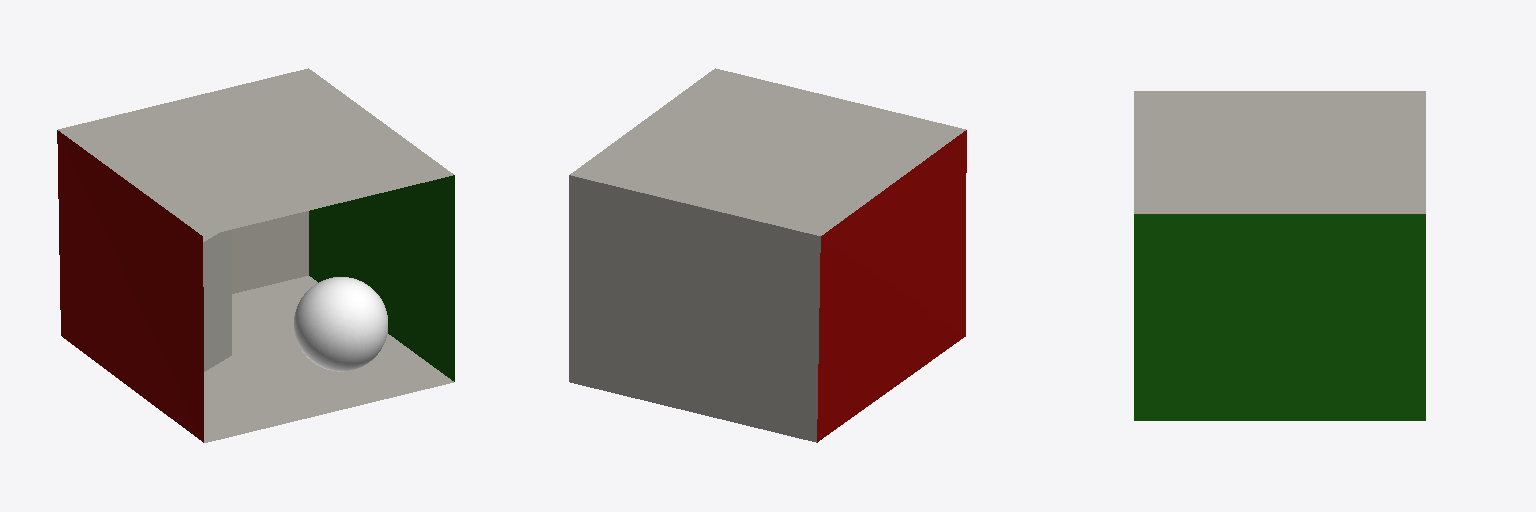
File: cbox_mirror.obj
3 renders of one model, left to right at view 1: azimuth 30°, elevation 25°; view 2: azimuth 150°, elevation 25°; view 3: azimuth 270°, elevation 25°, orthographic.
Parts seen in each view (by area): view 1: ceiling, leftWall, rightWall, floor, rightSphere, backWall, leftBox; view 2: backWall, ceiling, leftWall; view 3: rightWall, ceiling.
Boxes of the visible parts, <box> form: ceiling: <box>58,68,453,235</box>; leftWall: <box>57,130,203,442</box>; rightWall: <box>309,175,454,381</box>; floor: <box>204,276,453,442</box>; rightSphere: <box>294,277,387,371</box>; backWall: <box>232,211,308,293</box>; leftBox: <box>203,230,231,371</box>; backWall: <box>569,175,820,442</box>; ceiling: <box>570,68,965,235</box>; leftWall: <box>817,130,966,442</box>; rightWall: <box>1134,214,1425,420</box>; ceiling: <box>1134,91,1425,213</box>.
Bounding box in the file's own units: 2.02 × 1.59 × 2.03.